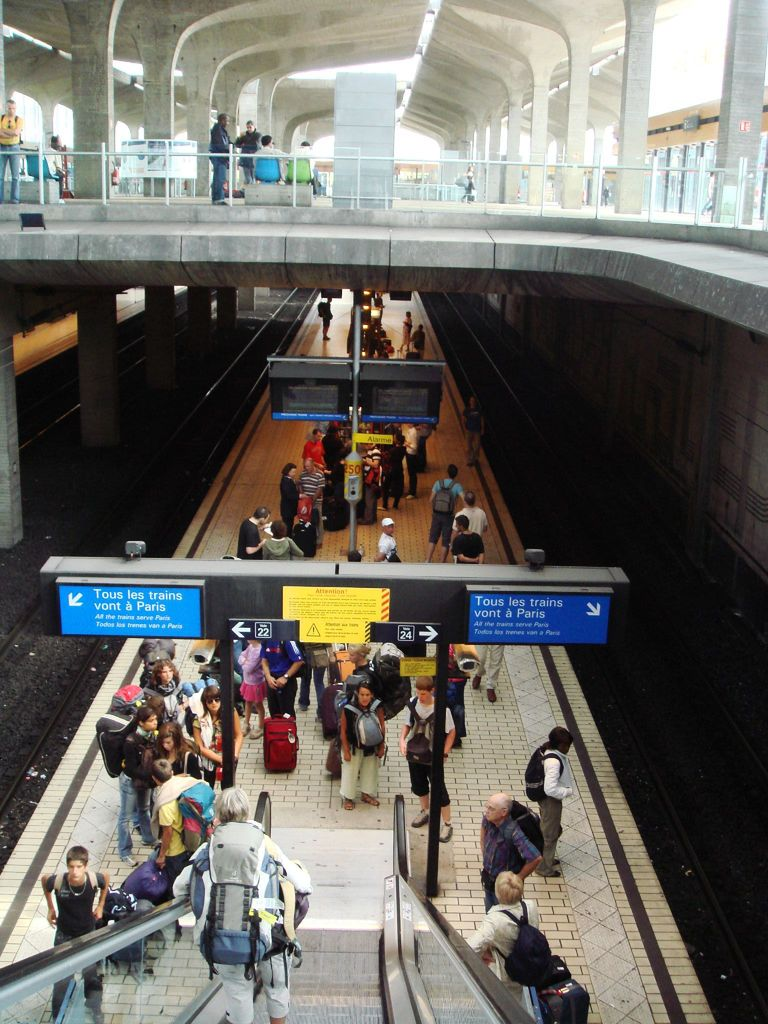Person: (37, 297, 576, 1024), (207, 111, 235, 207), (0, 95, 20, 205), (232, 119, 262, 185), (282, 138, 318, 181), (255, 134, 281, 181)
